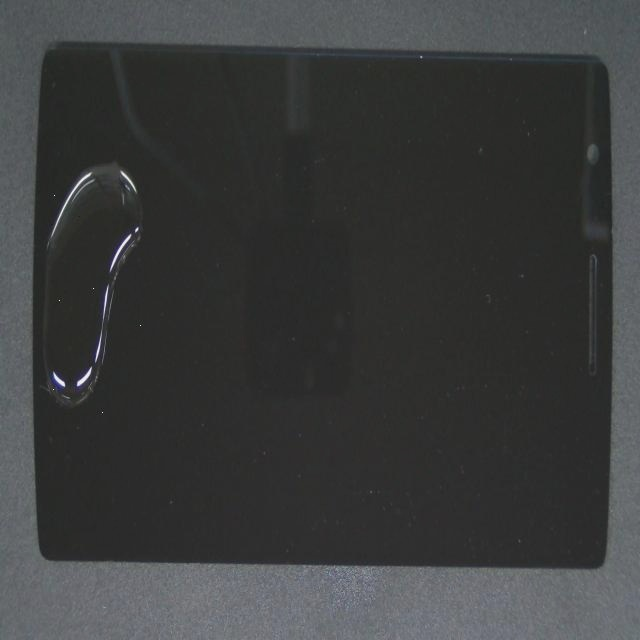oil: (26, 29, 66, 429)
